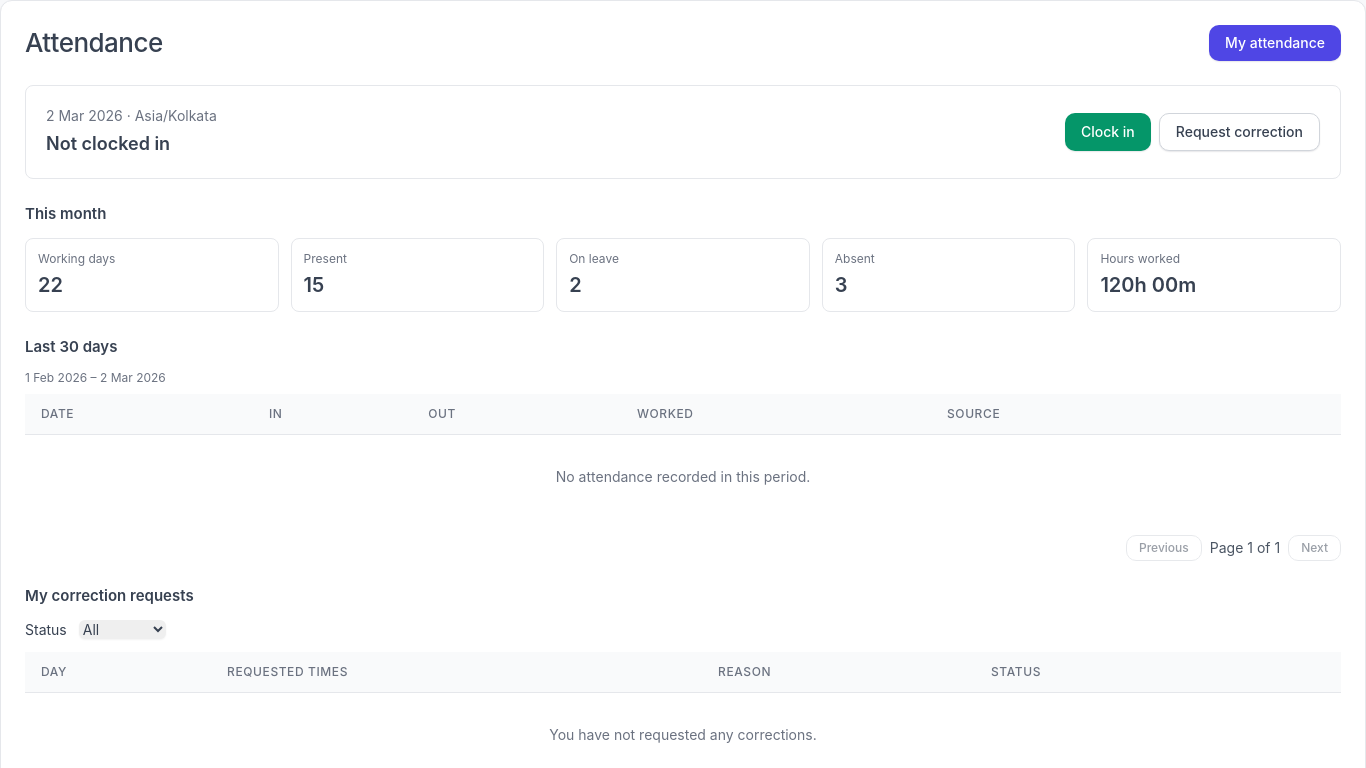
Test: Attendance page › requesting a correction › defaults to yesterday and explains the timezone and overnight rule
Click the button "Request correction" at (1239, 132), box [1159,113,1320,151]
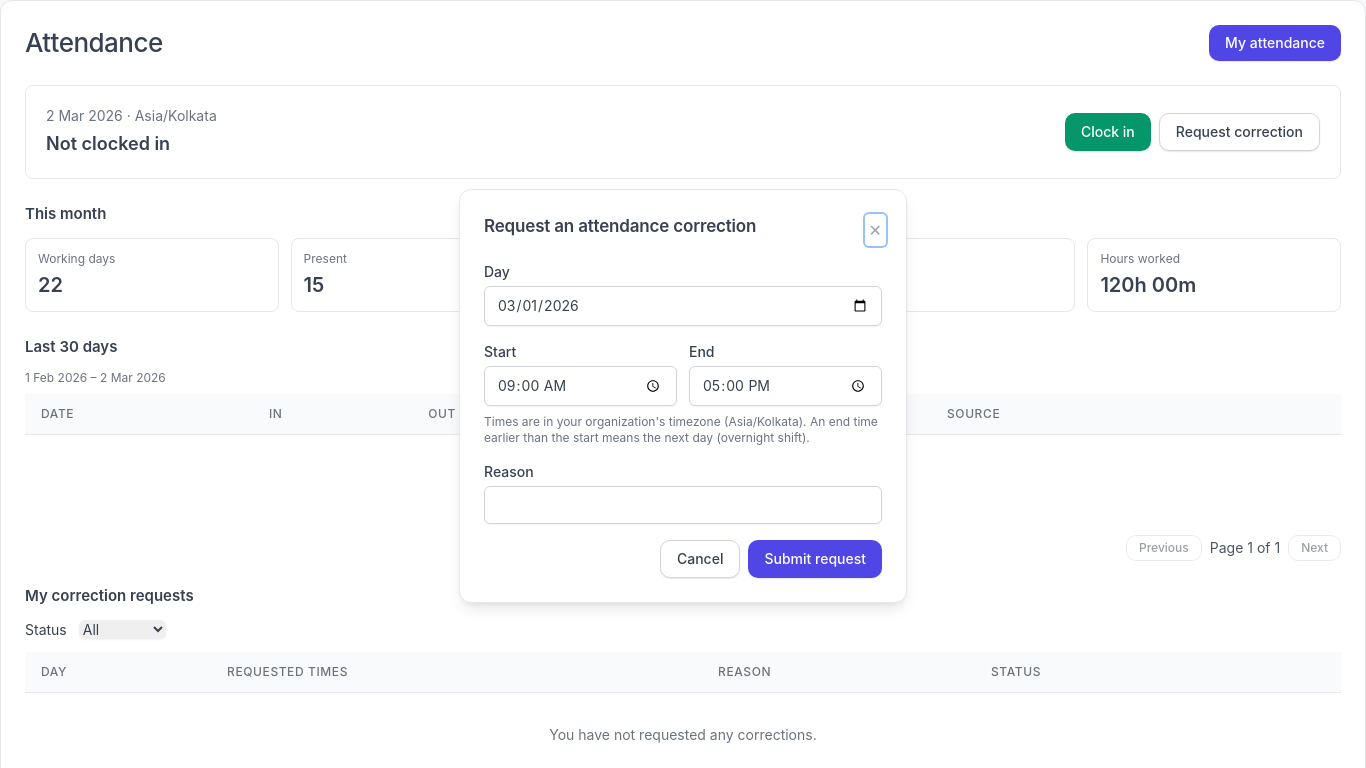
expect the date field labelled "Day" holds "2026-03-01": met, box [484,286,882,326]
expect the dialog shows "Asia/Kolkata": met, box [721,414,803,429]
expect the dialog shows "next day (overnight shift)": met, box [484,414,878,445]
